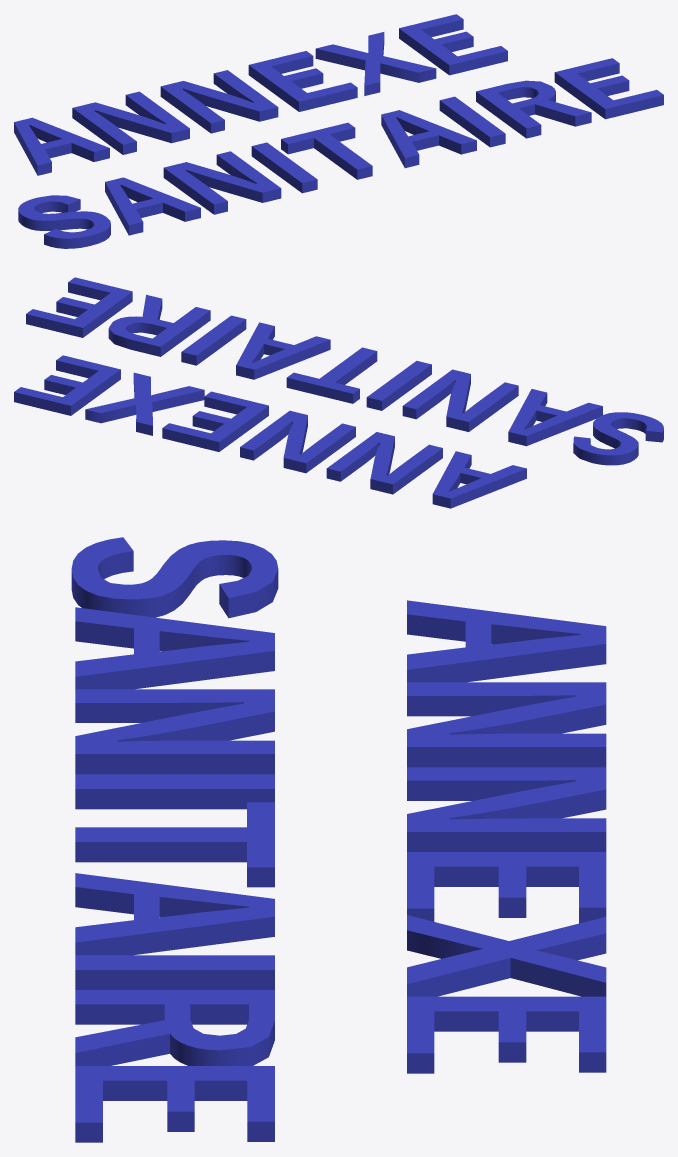
The model's file is annexesanitaire.fbx.
The picture shows the model from 3 angles, top to bottom: view 1: azimuth 30°, elevation 25°; view 2: azimuth 150°, elevation 25°; view 3: azimuth 270°, elevation 25°; orthographic projection. The views are drawn at different scales.
Parts seen in each view (by area): view 1: node_id167 (×2); view 2: node_id167 (×2); view 3: node_id167 (×2).
Part boxes in pixels (x1,y1,x2,y2): node_id167 (×2): (14, 14, 663, 248); node_id167 (×2): (14, 277, 663, 508); node_id167 (×2): (71, 537, 606, 1142).
Bounding box in the file's own units: 1.16 × 0.0188 × 0.4497.
